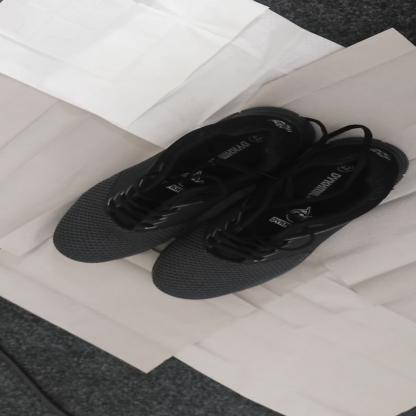safety-shoe: (53, 106, 406, 300)
